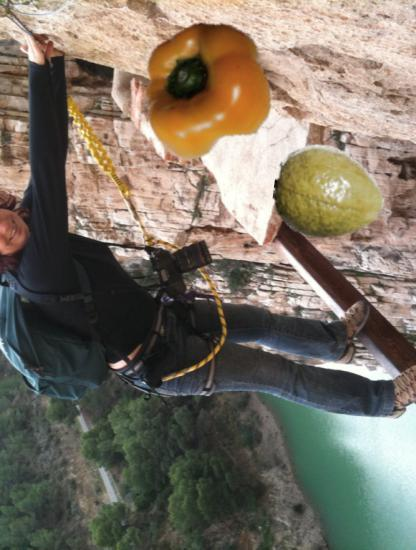Guava: (274, 137, 385, 248)
Pepper: (138, 22, 273, 157)
